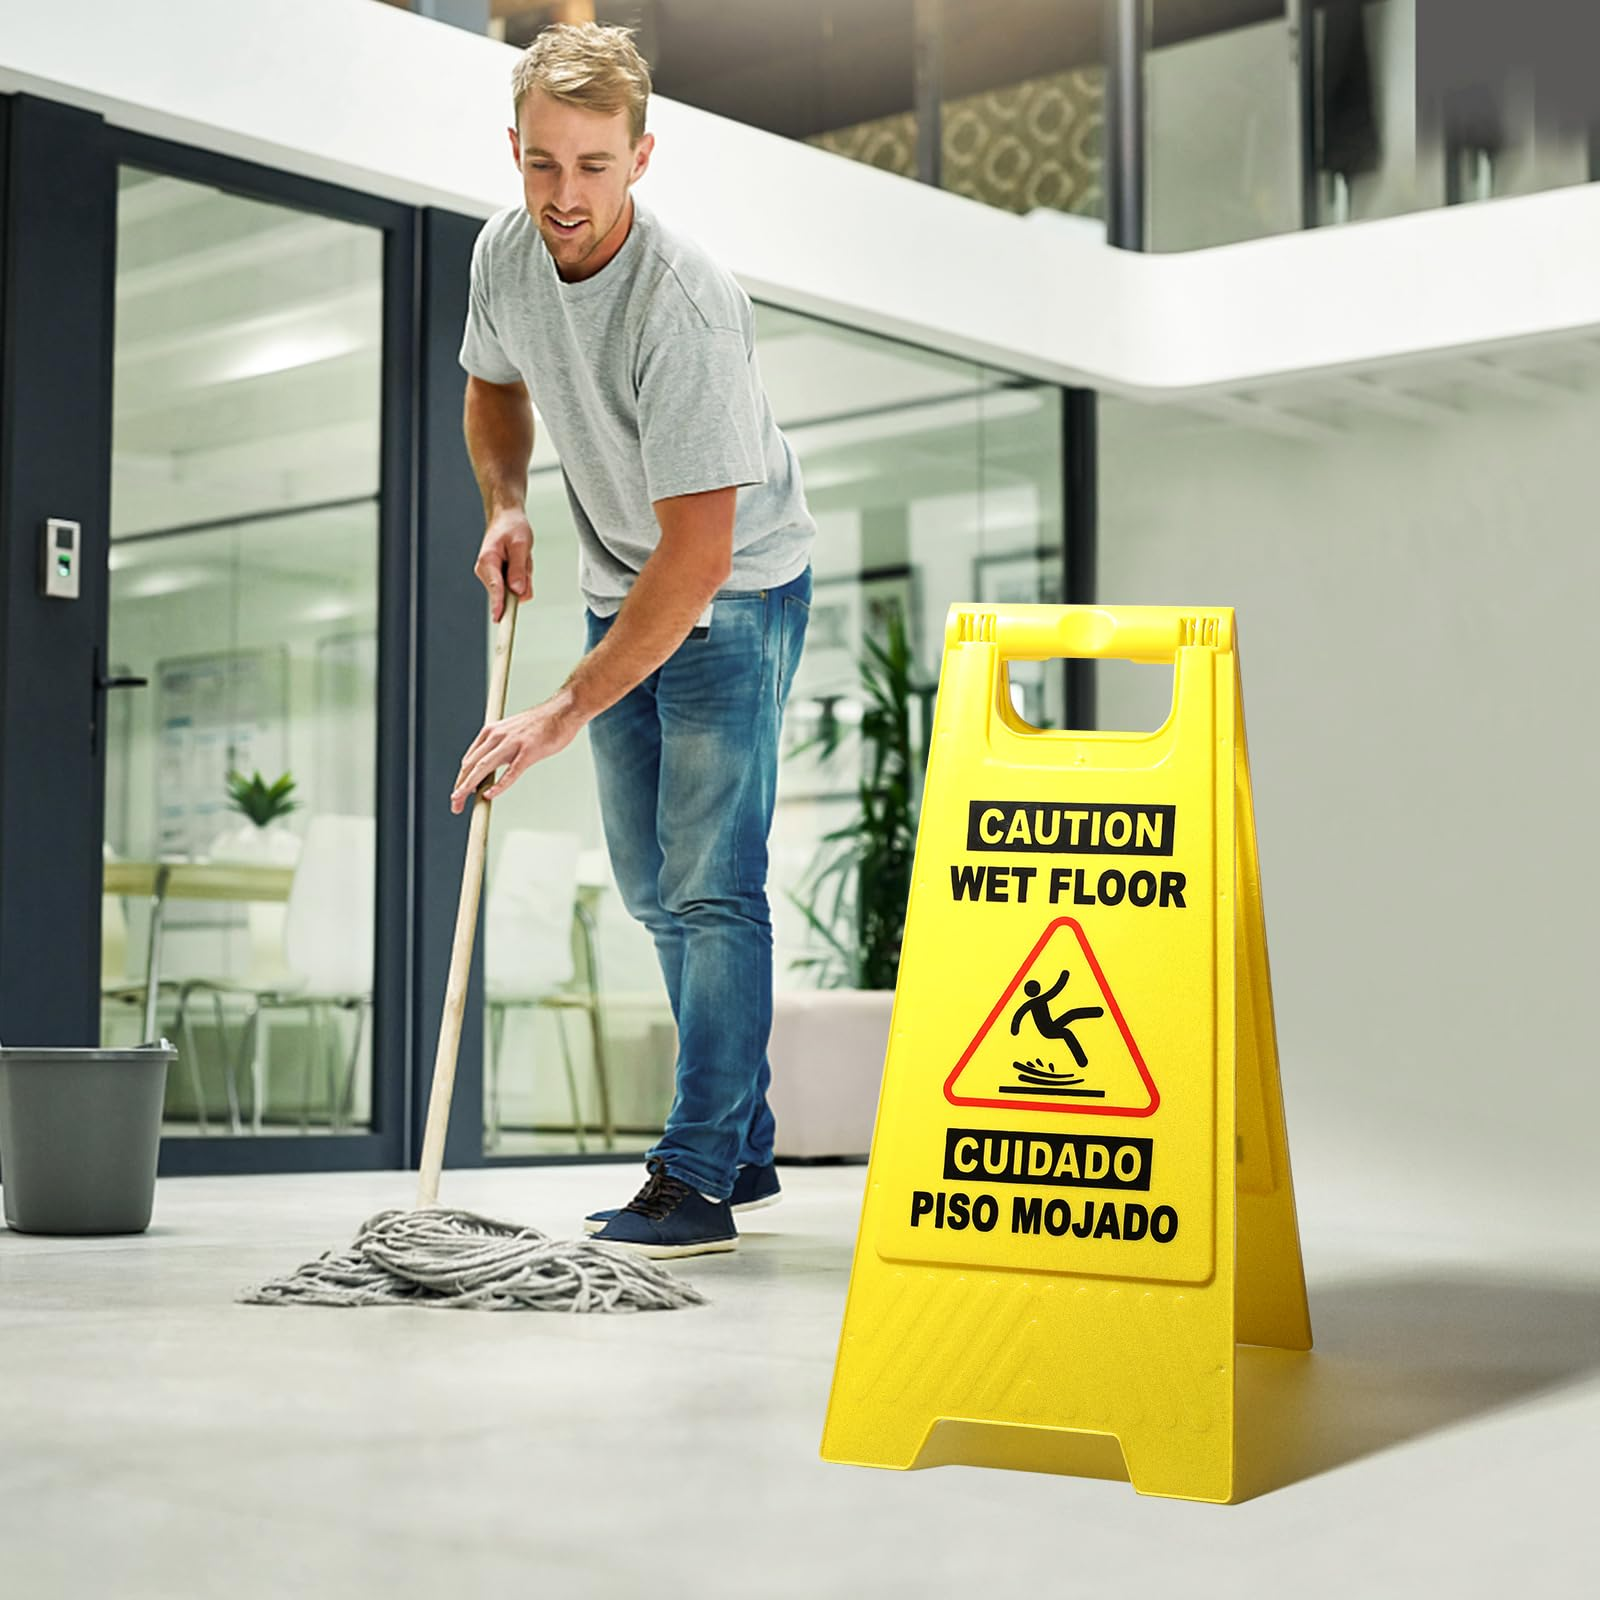wet caution sign: (816, 602, 1288, 1505)
